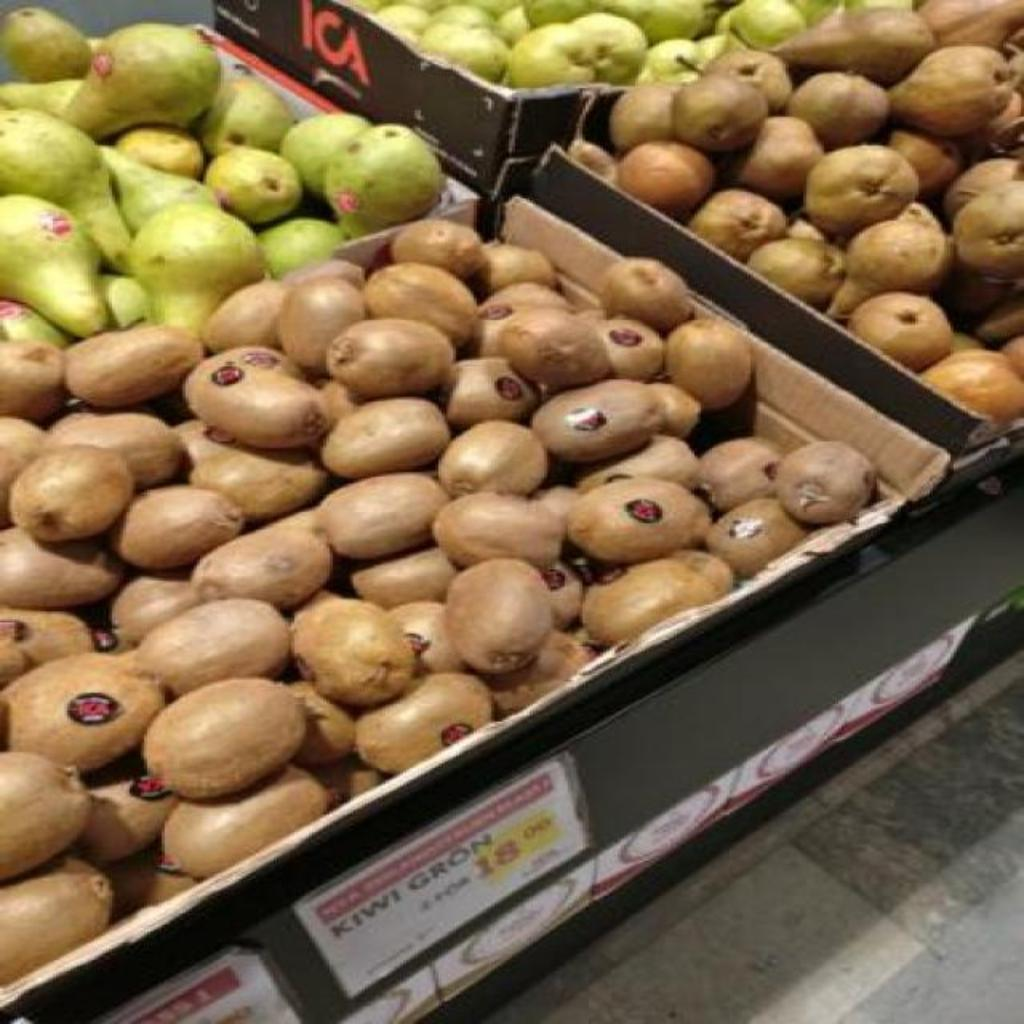kiwi: (141, 678, 307, 799), (3, 654, 165, 772), (165, 766, 331, 877), (136, 598, 291, 696), (184, 354, 331, 449), (0, 858, 109, 983), (291, 598, 416, 706), (357, 674, 493, 773), (445, 558, 552, 673), (565, 478, 709, 563), (8, 444, 133, 541), (192, 526, 333, 610), (581, 559, 720, 643), (0, 752, 91, 879), (317, 472, 448, 559), (67, 324, 203, 407), (112, 486, 245, 569), (531, 380, 661, 461), (328, 318, 456, 399), (189, 448, 328, 522), (47, 414, 187, 487), (323, 400, 451, 479), (432, 492, 565, 567), (0, 528, 123, 607), (363, 262, 477, 347), (499, 308, 611, 390), (483, 632, 592, 715), (77, 776, 179, 863), (277, 278, 365, 376), (664, 318, 752, 410), (776, 442, 875, 523), (440, 422, 549, 495), (707, 498, 805, 577), (579, 434, 699, 493), (0, 609, 93, 685), (600, 258, 693, 332), (445, 358, 539, 428), (101, 852, 195, 921), (352, 548, 459, 607), (112, 572, 200, 642), (203, 280, 288, 352), (699, 438, 781, 511), (389, 218, 485, 280), (288, 680, 355, 765), (0, 340, 69, 421), (389, 605, 467, 671), (472, 293, 553, 356), (588, 316, 664, 380), (0, 416, 45, 523), (173, 420, 273, 466), (472, 244, 557, 294), (312, 758, 384, 805), (667, 550, 736, 595), (213, 346, 304, 380), (648, 382, 701, 440), (541, 562, 584, 629), (495, 282, 573, 310), (280, 260, 363, 285), (293, 590, 344, 627), (320, 380, 360, 423), (533, 486, 581, 519), (269, 506, 323, 535), (567, 558, 624, 585), (48, 410, 112, 433), (93, 628, 136, 652), (576, 308, 608, 326)
